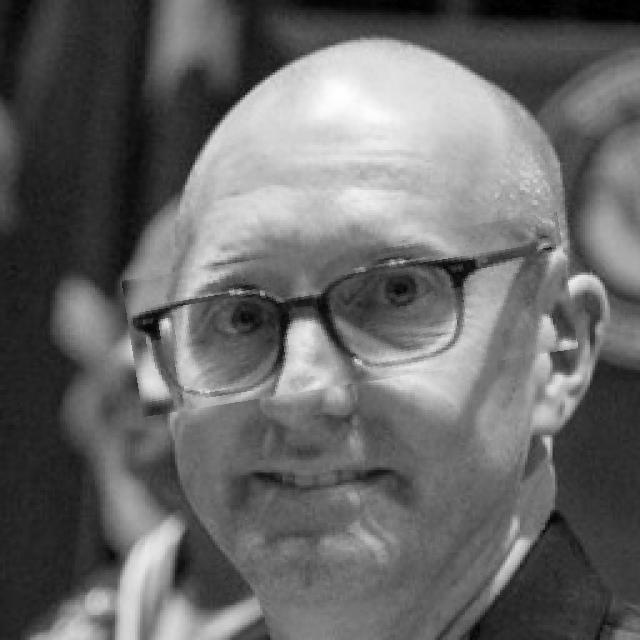glasses: (126, 229, 575, 401)
